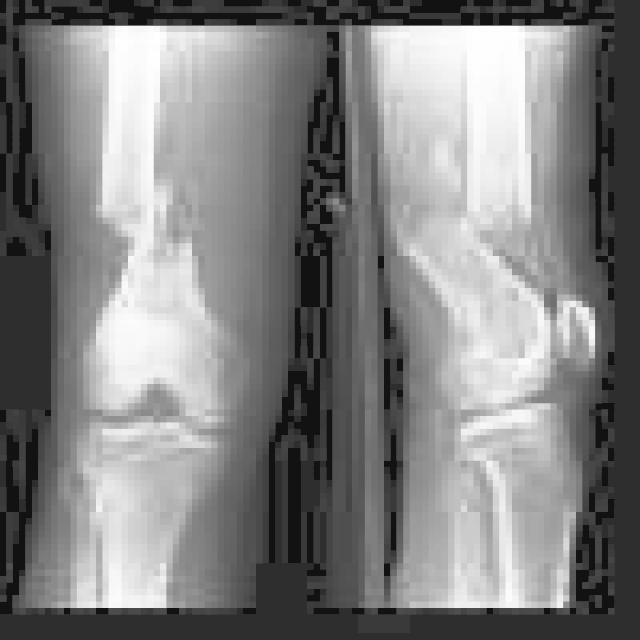Comminuted Fracture: (392, 174, 559, 252), (83, 191, 232, 273)
